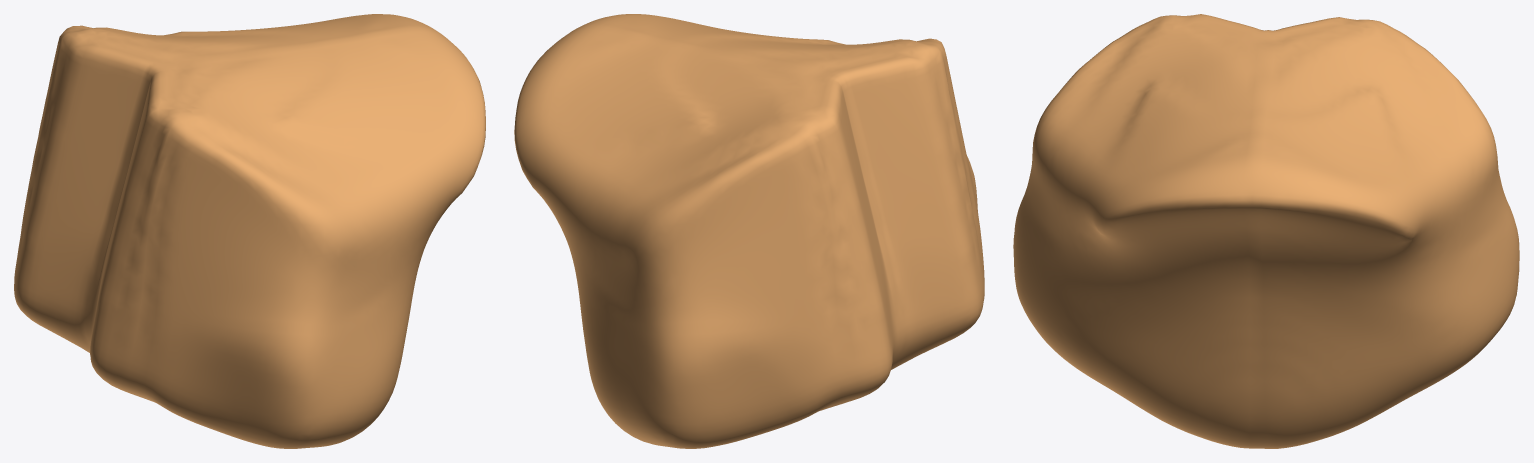
Rendered from jaw.fbx.
3 views of the same model, side by side, from view 1: azimuth 30°, elevation 25°; view 2: azimuth 150°, elevation 25°; view 3: azimuth 270°, elevation 25° (orthographic). The views are drawn at different scales.
Visible parts, largest first — view 1: jaw; view 2: jaw; view 3: jaw.
Boxes of the visible parts, x1,y1,x2,y2 form: jaw: (14,14,485,448); jaw: (514,14,984,448); jaw: (1013,14,1519,448).
Size of the model in its own units: 0.1449 by 0.1348 by 0.1747.
